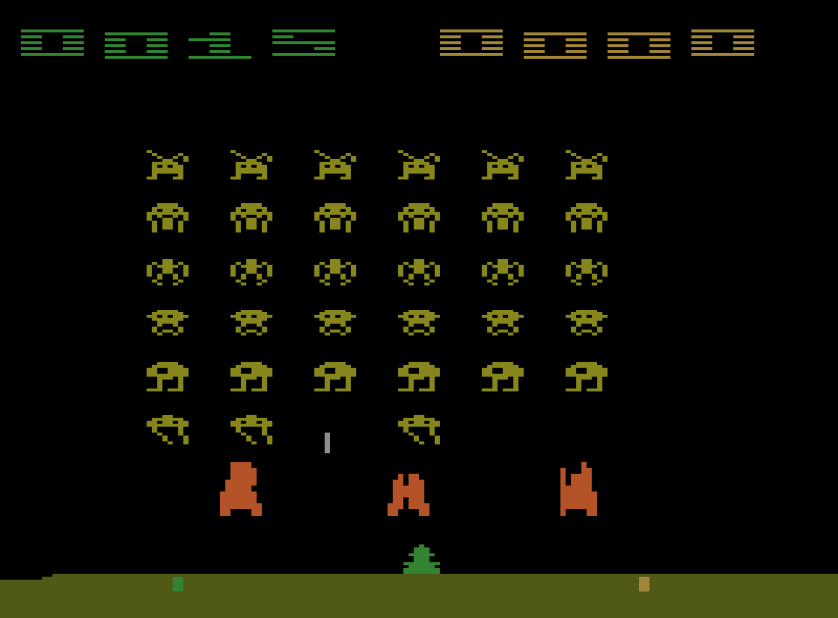bullet: (323, 429, 332, 456)
invader1: (145, 146, 190, 182), (311, 147, 357, 182), (229, 147, 274, 182), (480, 147, 526, 181), (564, 148, 610, 182), (397, 148, 443, 181)
invader2: (144, 201, 192, 234), (563, 200, 609, 234), (397, 200, 442, 234), (480, 201, 525, 234), (313, 202, 357, 235), (229, 202, 274, 234)
invader3: (395, 257, 443, 289), (229, 256, 275, 289), (563, 256, 610, 288), (311, 256, 358, 287), (144, 257, 191, 287), (480, 257, 525, 288)
invader4: (143, 308, 192, 339), (480, 307, 527, 339), (564, 307, 611, 338), (396, 307, 442, 338), (229, 307, 274, 338), (312, 307, 358, 337)
invader5: (143, 358, 190, 394), (561, 359, 609, 393), (478, 360, 525, 394), (395, 360, 442, 393), (312, 360, 357, 393), (228, 360, 274, 392)
invader6: (145, 412, 191, 447), (396, 412, 443, 446), (229, 412, 274, 446)
player: (402, 542, 442, 575)
